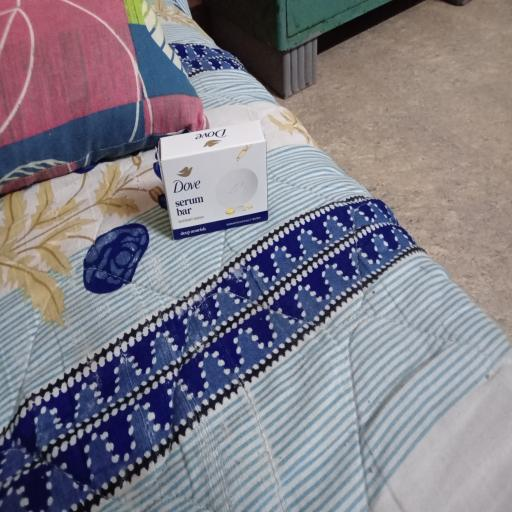Dove`1: (147, 114, 281, 242)
